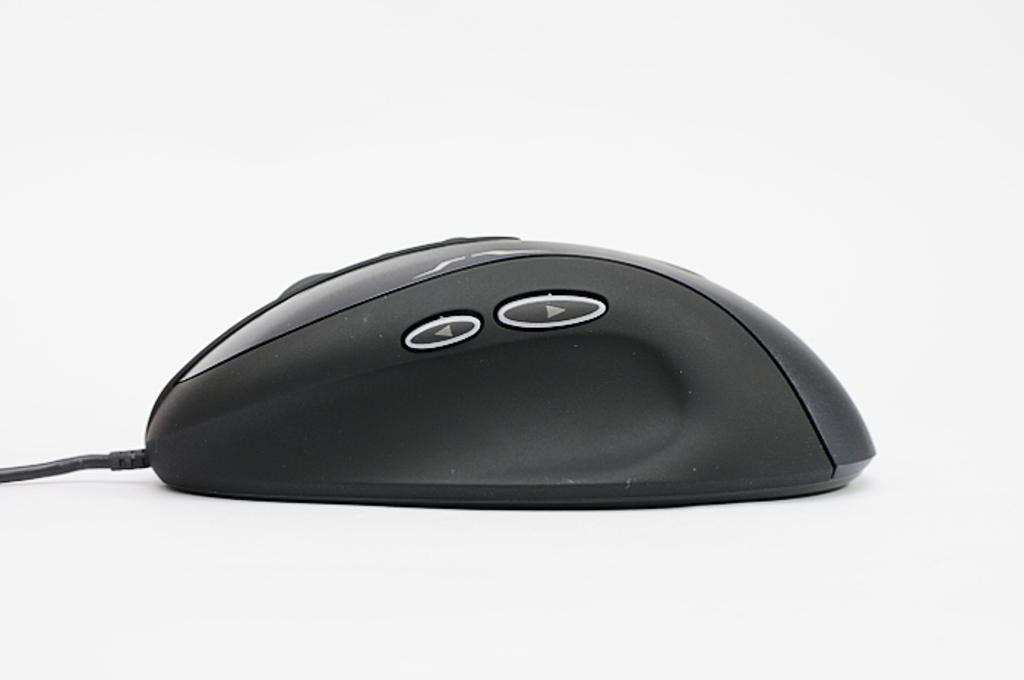Computer-mouse: (139, 230, 878, 509)
